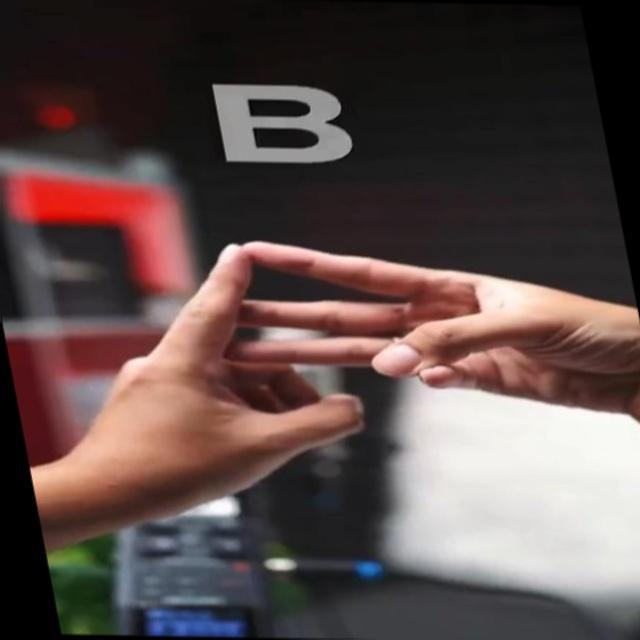B: (167, 217, 503, 462)
